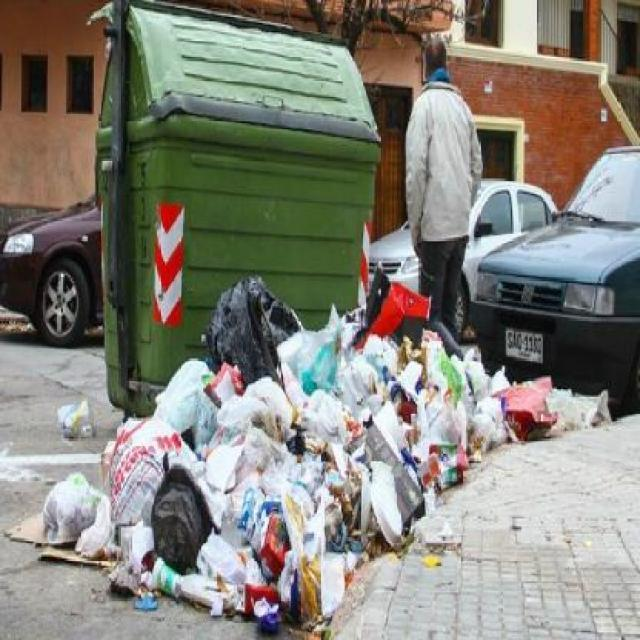garbage: (211, 268, 338, 638), (8, 446, 209, 596), (343, 309, 466, 476), (466, 356, 613, 445), (137, 374, 244, 468), (55, 394, 100, 439)
